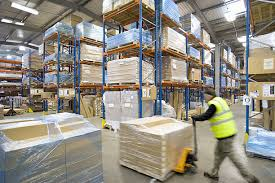Pallet Jack: (131, 115, 199, 183)
